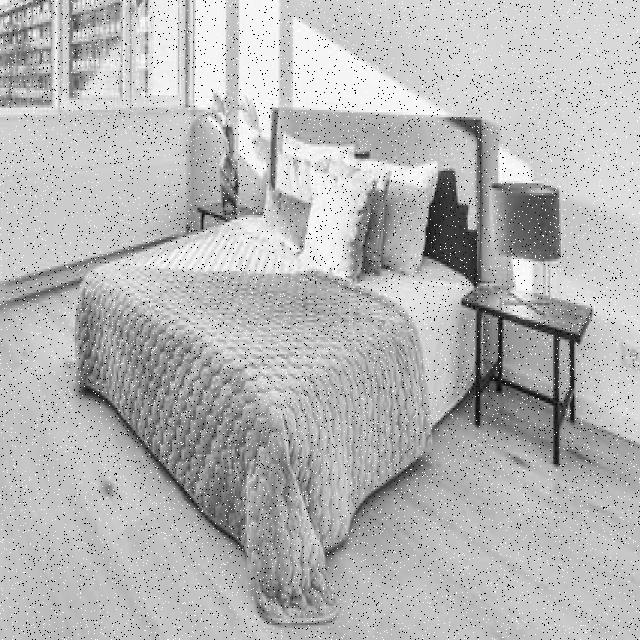bed: (91, 102, 487, 558)
